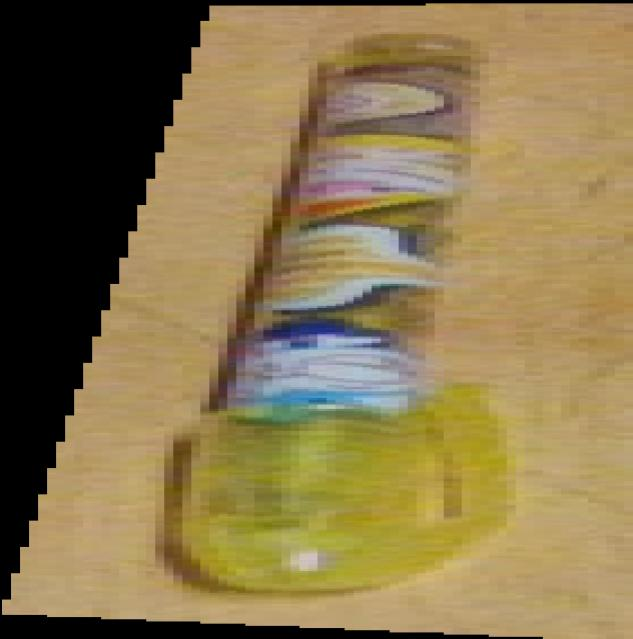yellow: (0, 0, 633, 639)
